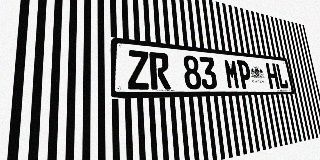3: (199, 56, 217, 89)
8: (182, 55, 202, 89)
H: (265, 63, 280, 89)
L: (275, 63, 289, 89)
M: (223, 59, 240, 89)
P: (237, 60, 253, 89)
R: (149, 52, 171, 90)
Z: (127, 50, 150, 90)
